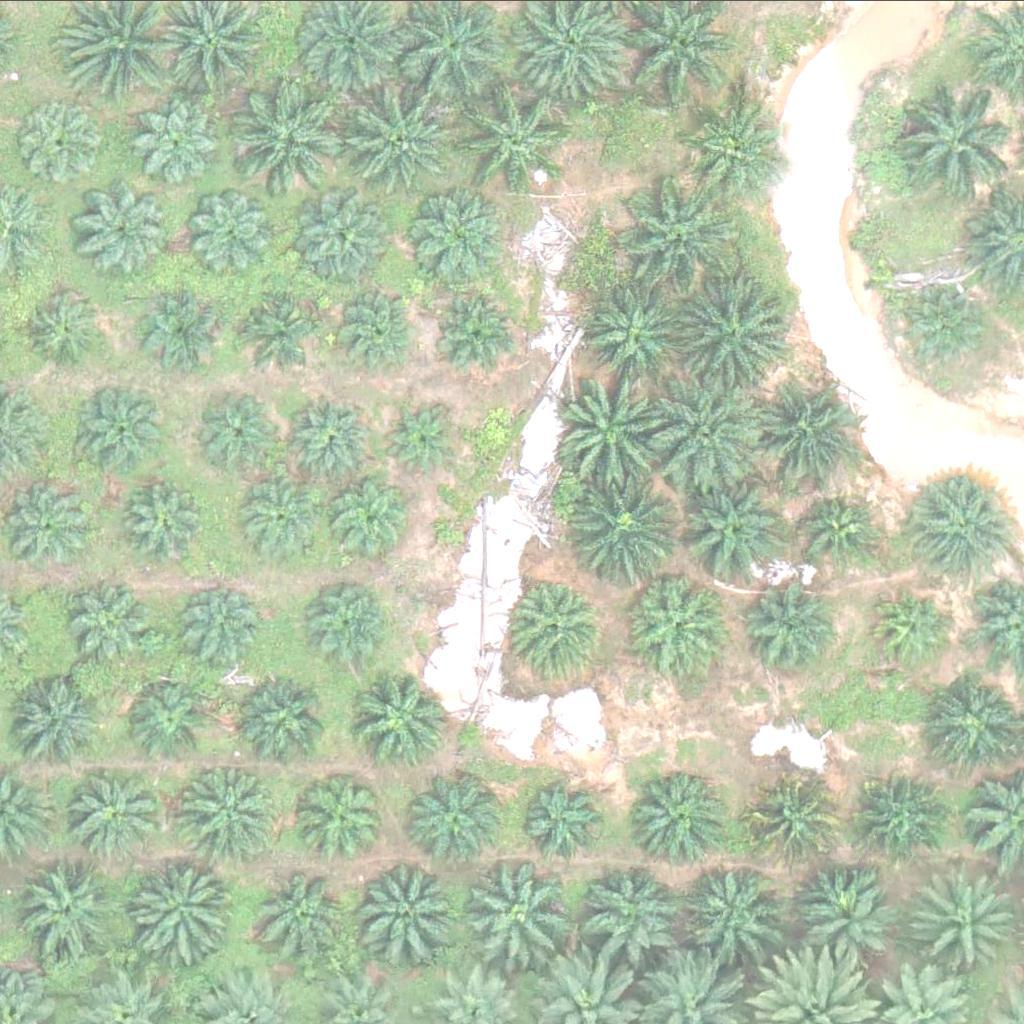Kelapa_Sawit: (677, 279, 791, 392), (895, 82, 1008, 195), (573, 472, 686, 585), (462, 857, 575, 970), (347, 852, 461, 964), (619, 180, 732, 292), (652, 372, 765, 484), (456, 79, 569, 191), (347, 79, 460, 191), (235, 83, 348, 195), (556, 373, 669, 485), (682, 484, 783, 584), (624, 764, 725, 864), (683, 857, 784, 957), (920, 871, 1021, 971), (302, 186, 403, 286), (583, 285, 684, 385), (6, 666, 107, 766), (238, 670, 339, 770), (354, 669, 455, 769), (182, 760, 283, 860), (22, 860, 123, 960), (138, 860, 239, 960), (692, 96, 792, 196), (757, 386, 857, 486), (917, 476, 1017, 576), (625, 573, 725, 673), (590, 862, 690, 962), (790, 872, 890, 972), (408, 187, 508, 287), (510, 575, 610, 675), (410, 767, 510, 867), (254, 858, 354, 958), (904, 285, 992, 373), (742, 588, 830, 676), (748, 777, 836, 865), (88, 186, 176, 274), (189, 186, 277, 274), (69, 579, 157, 667), (171, 586, 259, 674), (119, 484, 207, 572), (74, 386, 162, 474), (437, 287, 525, 375), (20, 285, 108, 373), (21, 96, 109, 184), (304, 770, 392, 858), (517, 778, 605, 866), (856, 775, 944, 862), (306, 580, 394, 667), (323, 470, 411, 557), (238, 474, 326, 561), (2, 483, 90, 570), (199, 389, 287, 476), (283, 388, 371, 475), (327, 290, 415, 377), (230, 282, 318, 369), (133, 290, 221, 377), (134, 98, 222, 185), (124, 675, 212, 762), (68, 766, 156, 853), (380, 399, 456, 474), (873, 589, 949, 664), (799, 494, 874, 569)
